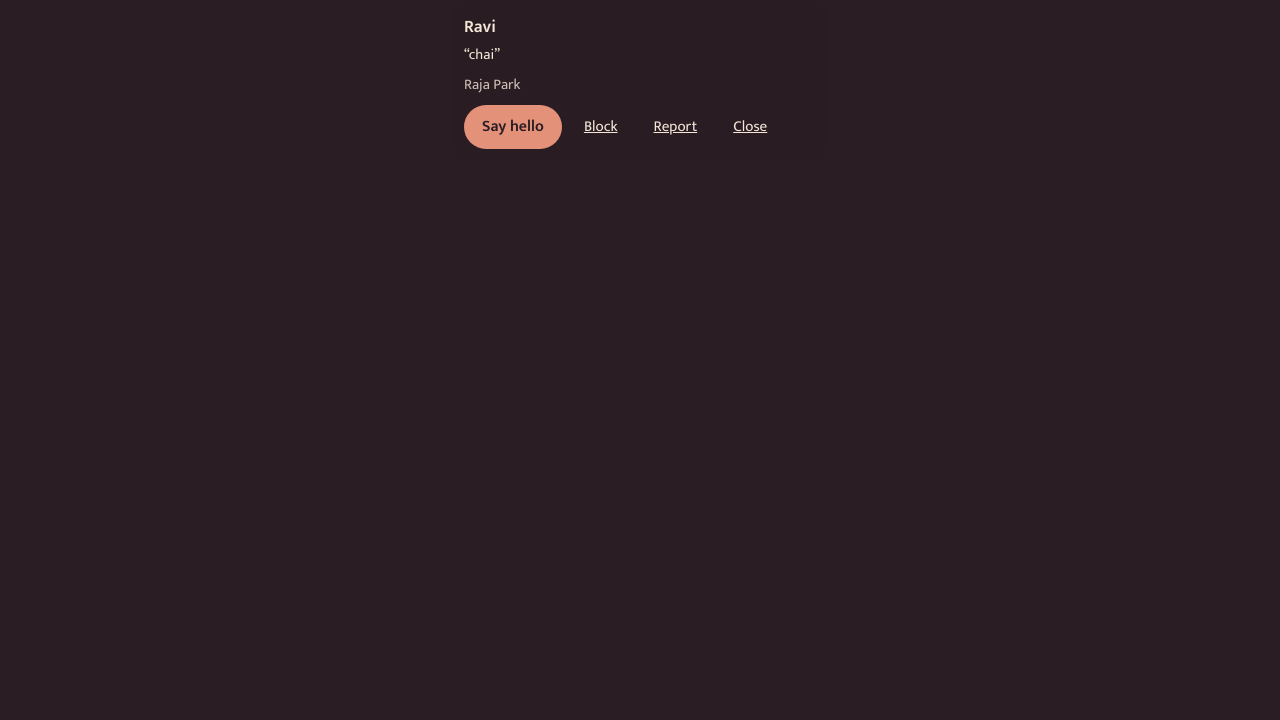
Test case: BlockConfirm: "Also report?" blocks at once, then opens the report; cancelling it leaves the block
The width and height of the screenshot is (1280, 720).
Later steps or results of the test are not shown.
Click the button "Block". click: click(601, 127)
box: [570,105,632,149]
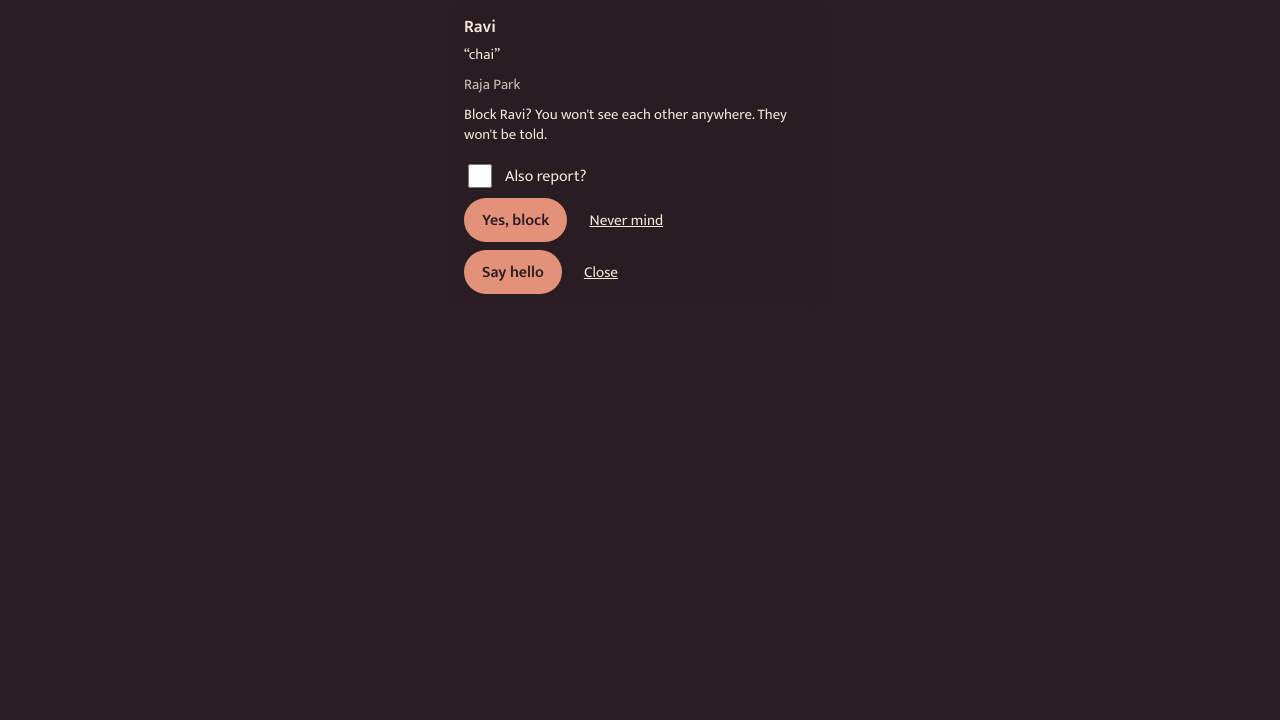
Click the checkbox labelled "Also report?". click: click(480, 176)
box: [468,164,492,188]
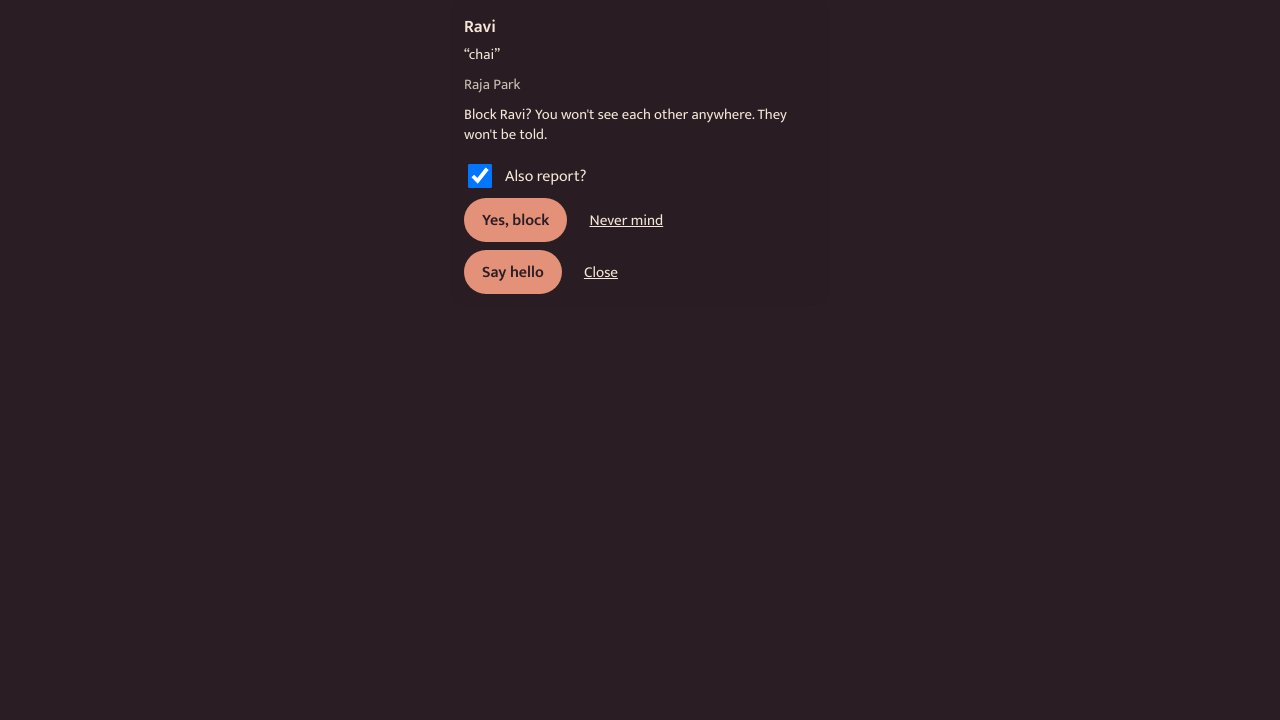
# the same plain block button, ticked or not
Click the button "Yes, block". click: click(516, 220)
box: [464,198,567,242]
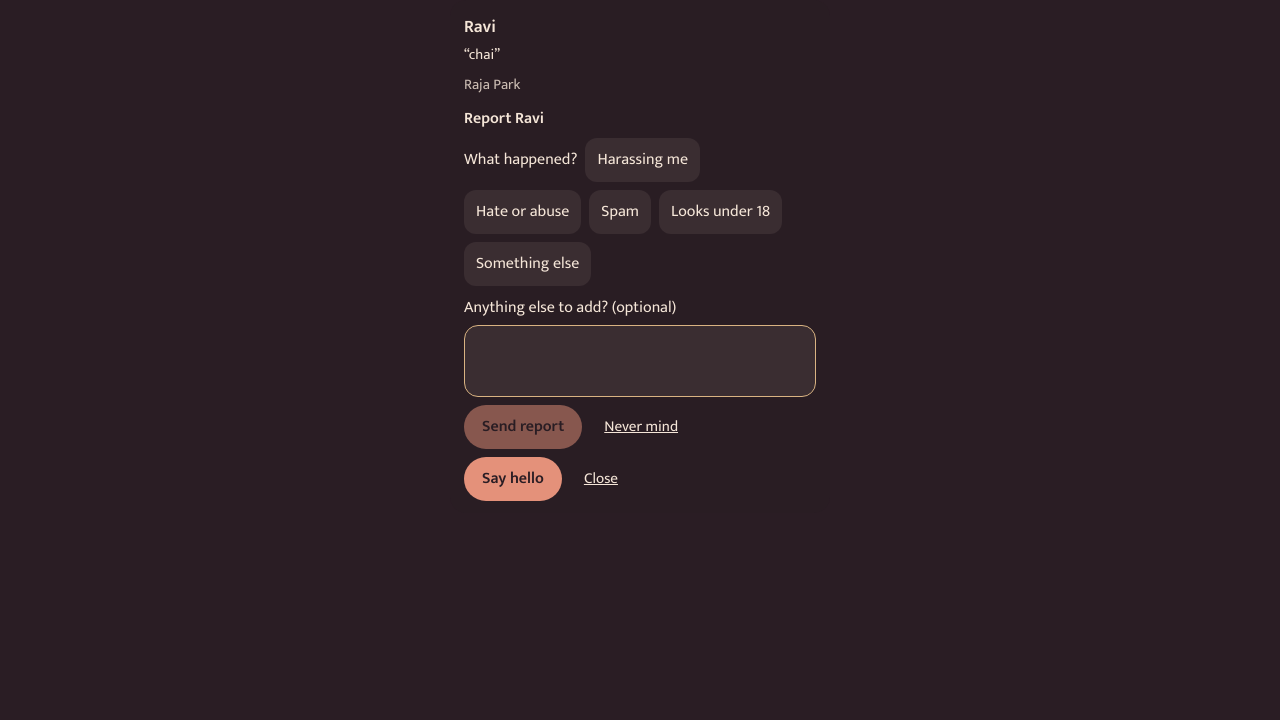
expect the dialog named "Report Ravi" is shown: met, box [464,105,816,449]
